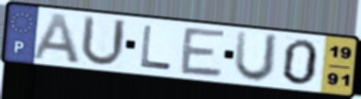0: (281, 38, 322, 87)
A: (29, 11, 83, 66)
E: (178, 25, 229, 80)
L: (138, 23, 174, 72)
U: (231, 29, 281, 85), (78, 14, 128, 69)
